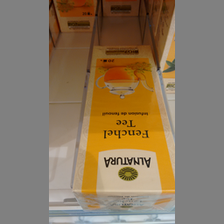tea: (71, 44, 174, 214)
